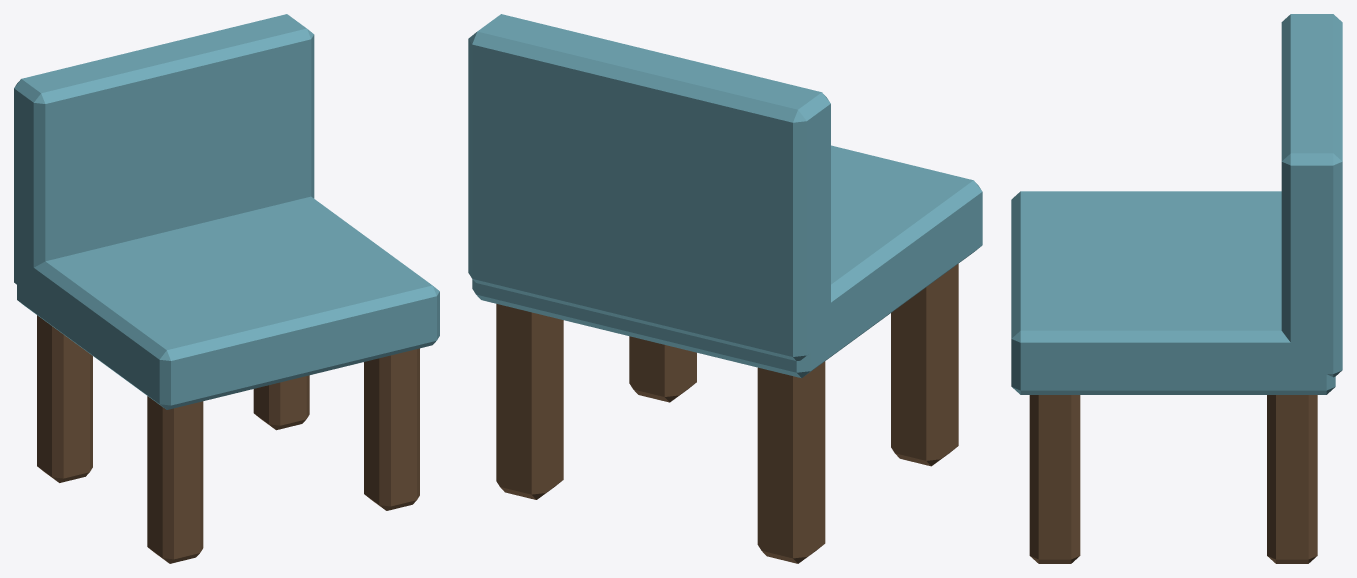
File: padded_chair.lod1.glb
3 views of the same model, side by side, from view 1: azimuth 30°, elevation 25°; view 2: azimuth 150°, elevation 25°; view 3: azimuth 270°, elevation 25° (orthographic). The views are drawn at different scales.
Size of the model in its own units: 0.6864 by 0.9065 by 0.6528.
